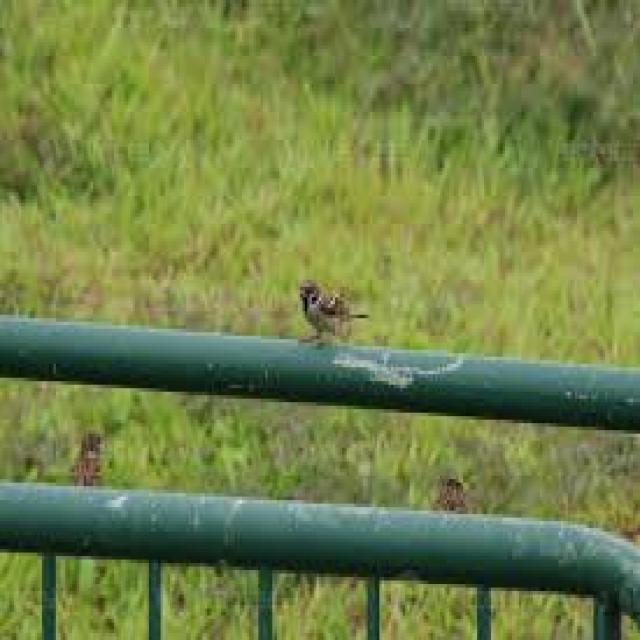bird: (294, 272, 366, 352)
